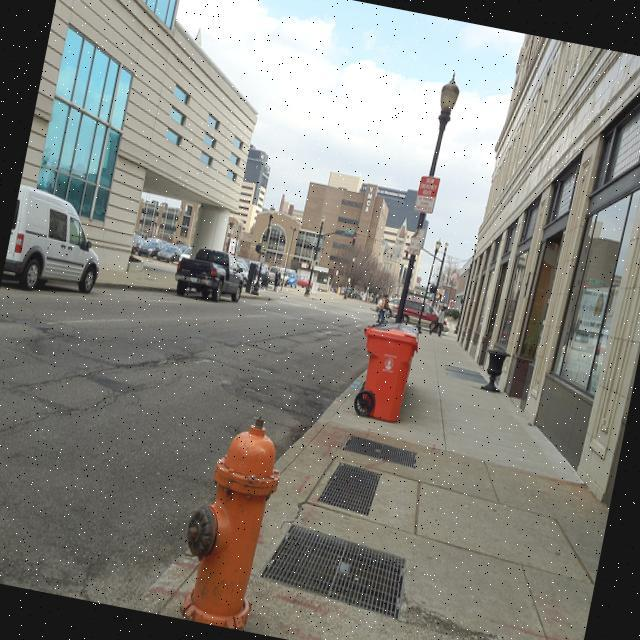fire_hydrant: (170, 402, 296, 633)
